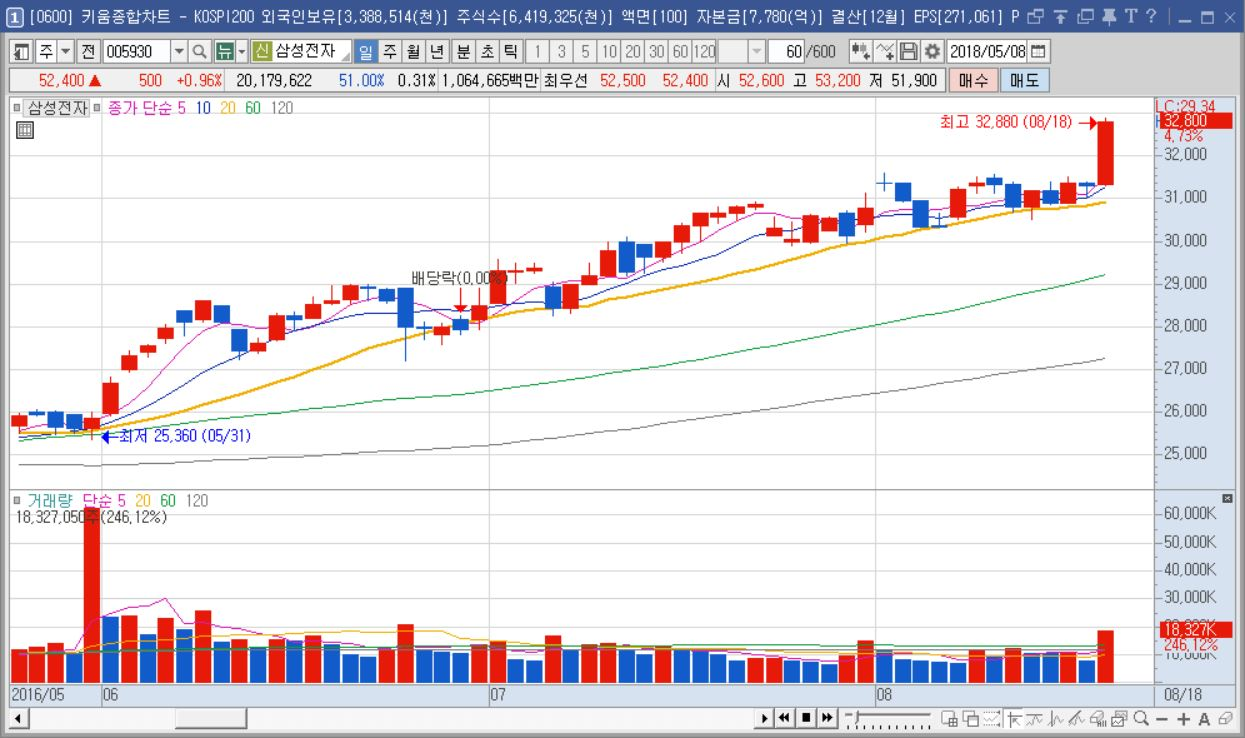up: (543, 107, 1115, 682)
